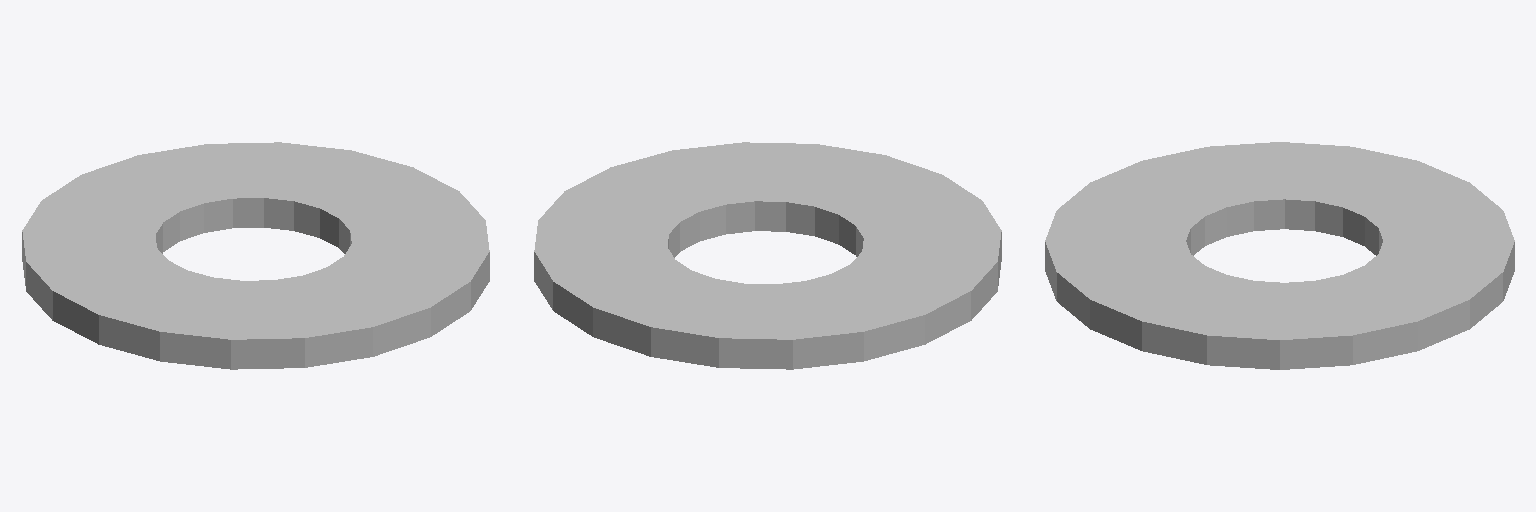
File: car_road.obj
The picture shows the model from 3 angles: view 1: azimuth 30°, elevation 25°; view 2: azimuth 150°, elevation 25°; view 3: azimuth 270°, elevation 25°; orthographic projection.
Parts seen in each view (by area): view 1: obj_0; view 2: obj_0; view 3: obj_0.
Boxes of the visible parts, <box> form: obj_0: <box>22,142,489,369</box>; obj_0: <box>534,142,1001,369</box>; obj_0: <box>1045,142,1514,369</box>.
Size of the model in its own units: 100 by 7 by 100.